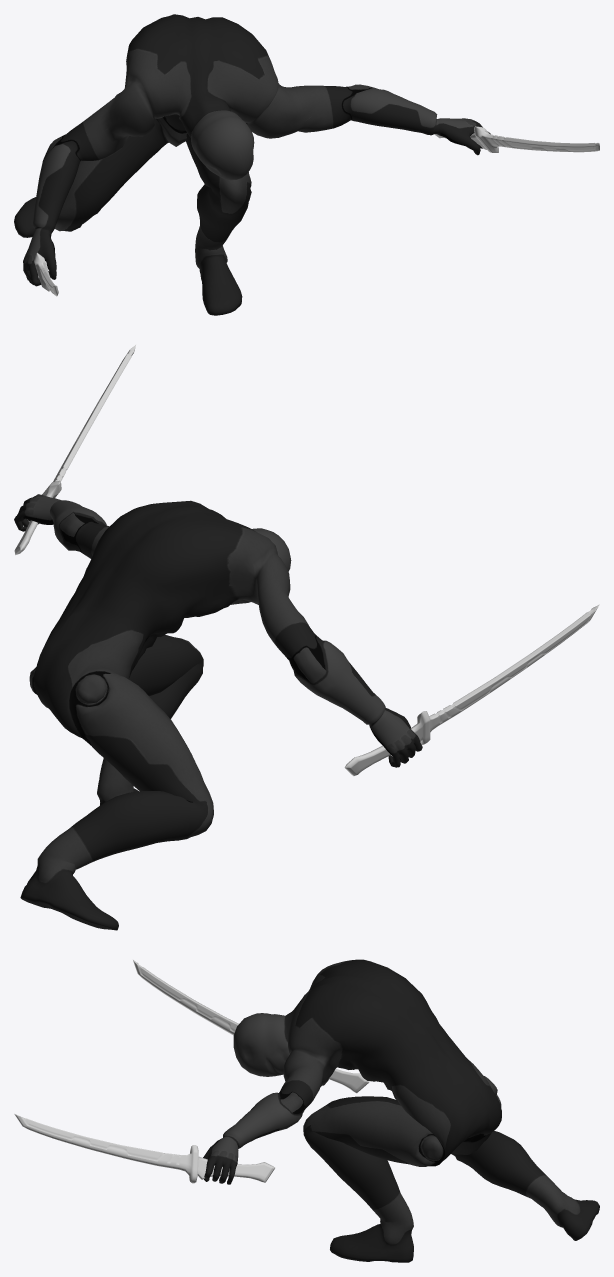
The picture shows the model from 3 angles, top to bottom: view 1: azimuth 30°, elevation 25°; view 2: azimuth 150°, elevation 25°; view 3: azimuth 270°, elevation 25°; orthographic projection. The views are drawn at different scales.
Visible parts, largest first — view 1: Cyborg_Ninja_Killer, Sword_l, Sword_l001; view 2: Cyborg_Ninja_Killer, Sword_l001, Sword_l; view 3: Cyborg_Ninja_Killer, Sword_l, Sword_l001.
Part boxes in pixels (x1,y1,x2,y2): Cyborg_Ninja_Killer: (14, 14, 490, 315); Sword_l: (434, 126, 599, 152); Sword_l001: (34, 252, 58, 296); Cyborg_Ninja_Killer: (14, 494, 422, 930); Sword_l001: (344, 604, 599, 776); Sword_l: (14, 345, 135, 555); Cyborg_Ninja_Killer: (203, 959, 599, 1262); Sword_l: (14, 1114, 274, 1183); Sword_l001: (133, 960, 369, 1093).
Size of the model in its own units: 171 by 94.81 by 190.
